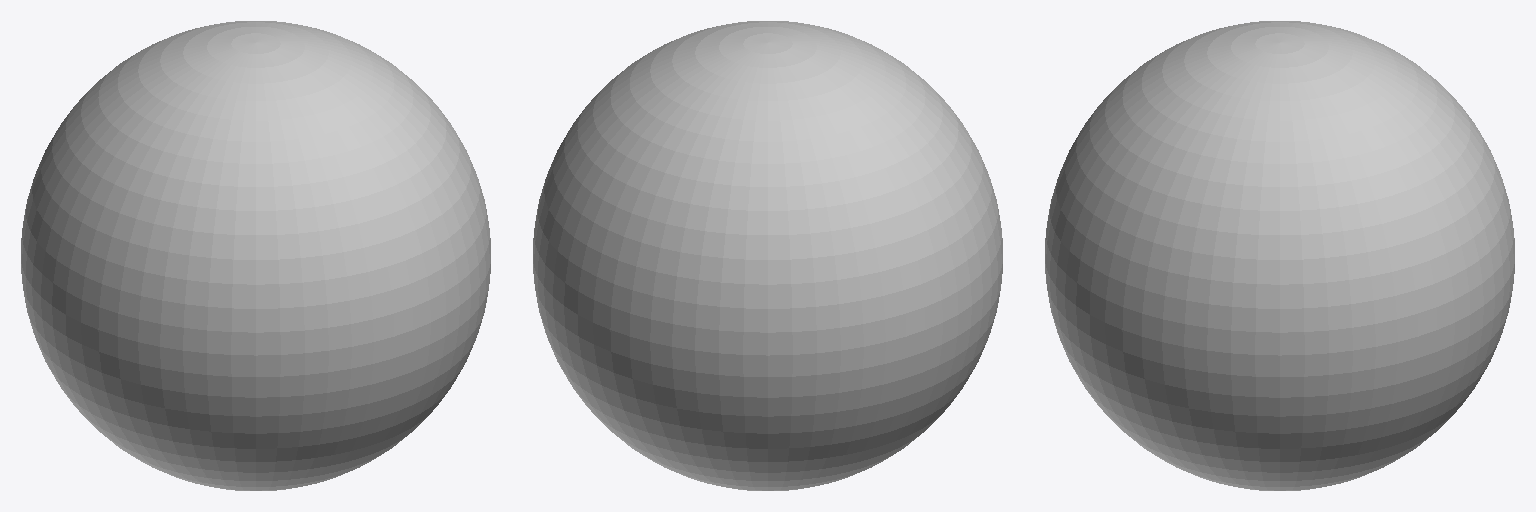
Rendered from sun.obj.
3 renders of one model, left to right at view 1: azimuth 30°, elevation 25°; view 2: azimuth 150°, elevation 25°; view 3: azimuth 270°, elevation 25°, orthographic.
Parts seen in each view (by area): view 1: Esfera Mesh; view 2: Esfera Mesh; view 3: Esfera Mesh.
Boxes of the visible parts, x1=… form: Esfera Mesh: x1=21, y1=21, x2=490, y2=490; Esfera Mesh: x1=533, y1=21, x2=1002, y2=490; Esfera Mesh: x1=1045, y1=21, x2=1514, y2=490.
Bounding box in the file's own units: 40000 × 40000 × 40000.